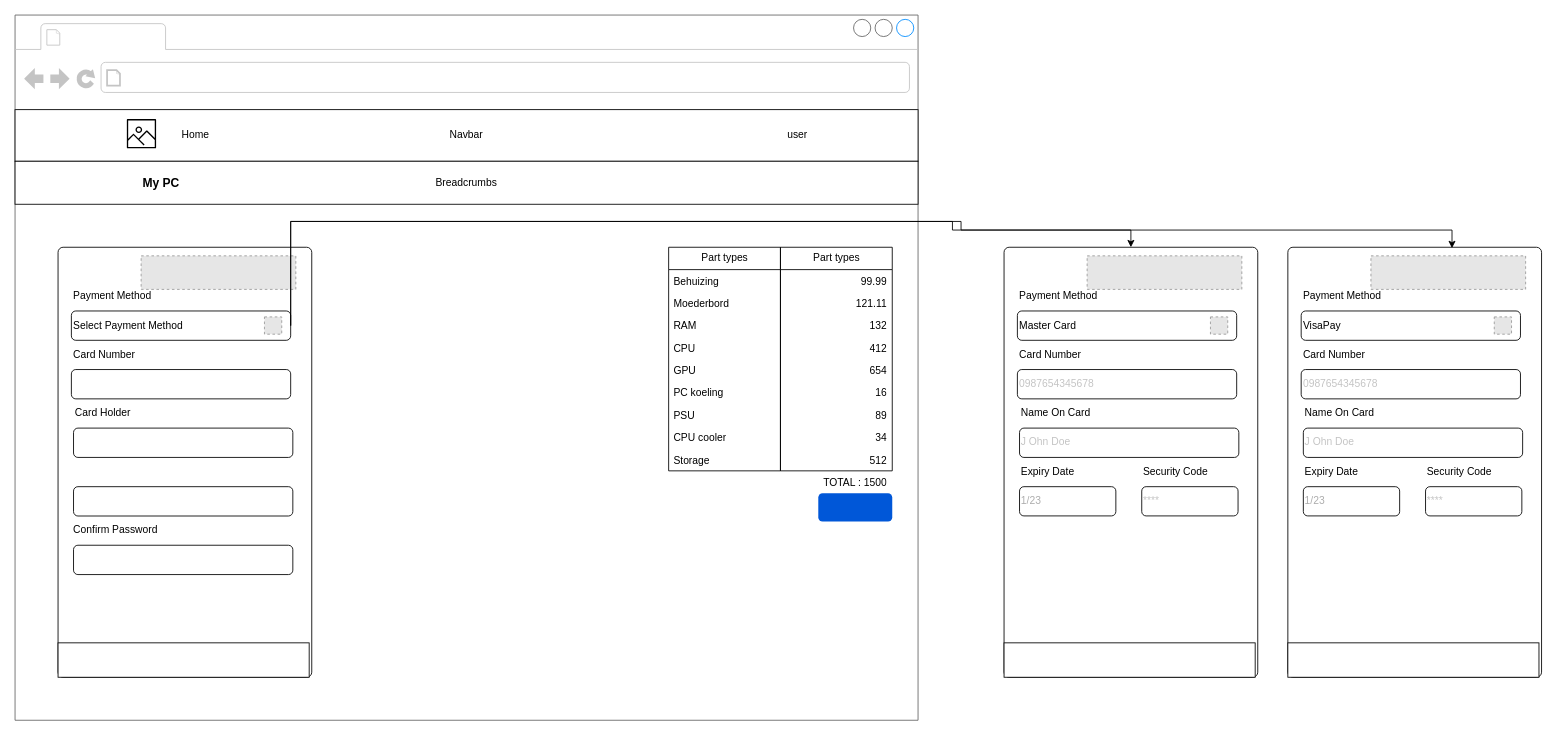
Image size: 1557x735. Some labels were removed from this diagram. Grey dashed boxes stand in for pictures. Here are the shapes that lost their labels. From the top down, the centre of each, then its label:
point 113,36: Page 1
point 234,77: https://www.default.com
point 855,507: Order now
